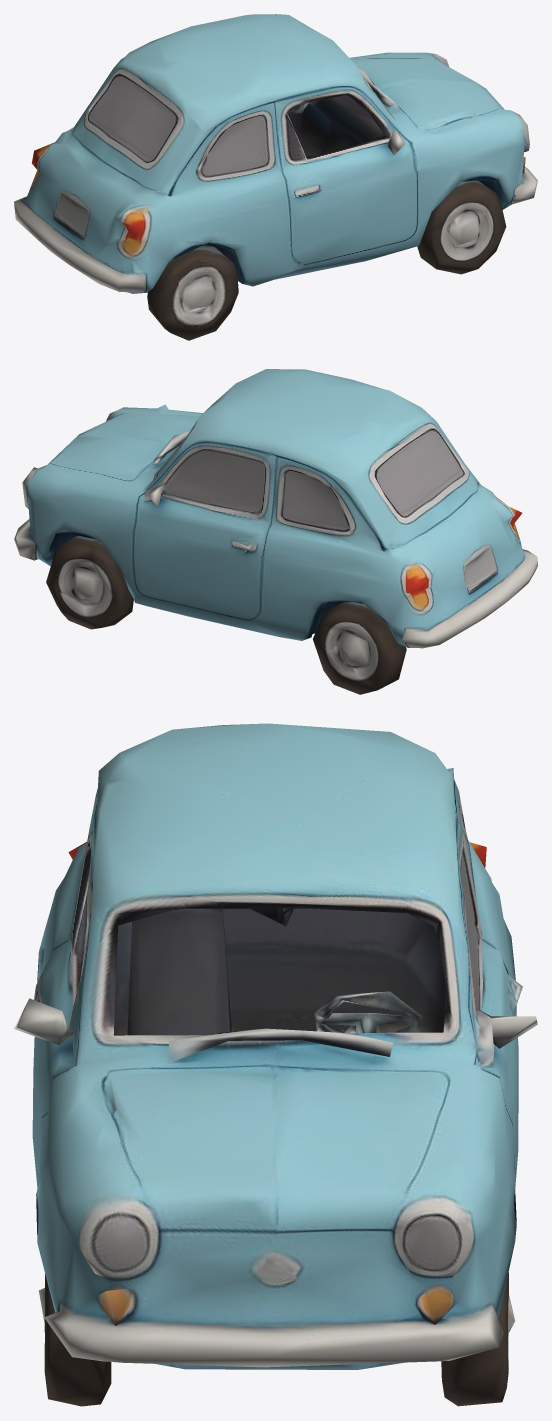
The model's file is old_car.glb.
3 renders of one model, top to bottom at view 1: azimuth 30°, elevation 25°; view 2: azimuth 150°, elevation 25°; view 3: azimuth 270°, elevation 25°, orthographic. The views are drawn at different scales.
Visible parts, largest first — view 1: tripo_node_3a21ed31-3d59-41a9-bfd9-8cb5a1774b29; view 2: tripo_node_3a21ed31-3d59-41a9-bfd9-8cb5a1774b29; view 3: tripo_node_3a21ed31-3d59-41a9-bfd9-8cb5a1774b29.
Part boxes in pixels (bbox=[...]): tripo_node_3a21ed31-3d59-41a9-bfd9-8cb5a1774b29: bbox=[14, 14, 537, 340]; tripo_node_3a21ed31-3d59-41a9-bfd9-8cb5a1774b29: bbox=[14, 369, 537, 694]; tripo_node_3a21ed31-3d59-41a9-bfd9-8cb5a1774b29: bbox=[14, 723, 537, 1406].
Size of the model in its own units: 1 by 0.49 by 0.5195.
Materials: 1 (1 with a texture image).
